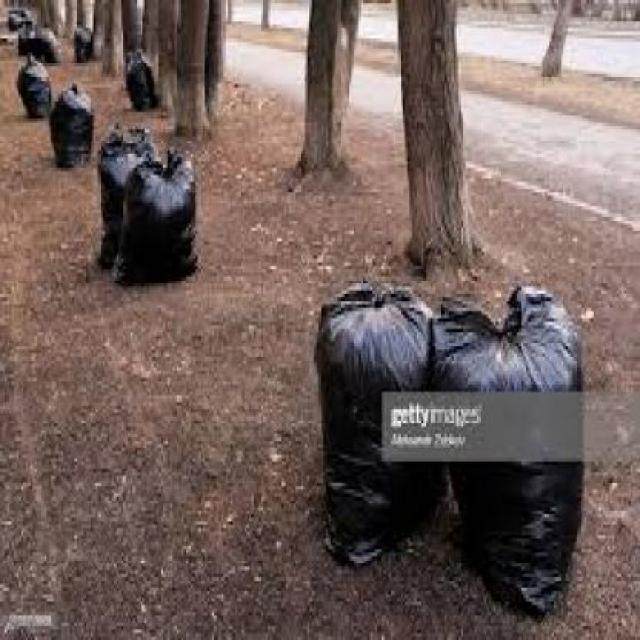garbage: (303, 280, 594, 606), (5, 0, 198, 286)
